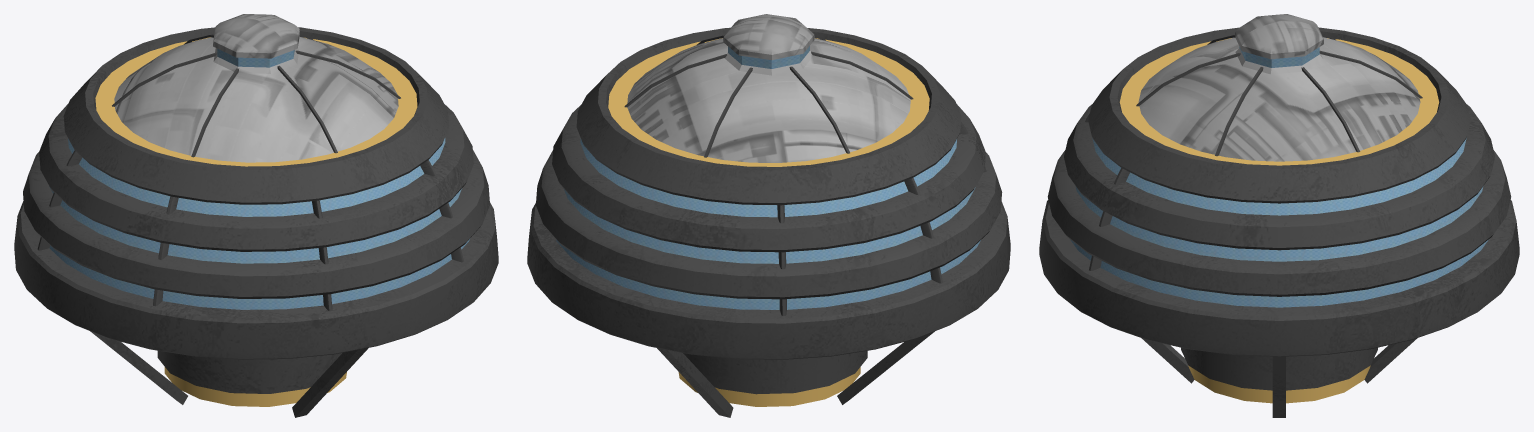
File: NB_Top_cyvilian_Building_1.fbx
3 views of the same model, side by side, from view 1: azimuth 30°, elevation 25°; view 2: azimuth 150°, elevation 25°; view 3: azimuth 270°, elevation 25° (orthographic).
Parts seen in each view (by area): view 1: NB_Top_cyvilian_Building_1; view 2: NB_Top_cyvilian_Building_1; view 3: NB_Top_cyvilian_Building_1.
Boxes of the visible parts, x1,y1,x2,y2 form: NB_Top_cyvilian_Building_1: (14, 14, 498, 417); NB_Top_cyvilian_Building_1: (527, 14, 1010, 417); NB_Top_cyvilian_Building_1: (1039, 14, 1519, 417).
Size of the model in its own units: 523 by 433 by 523.
